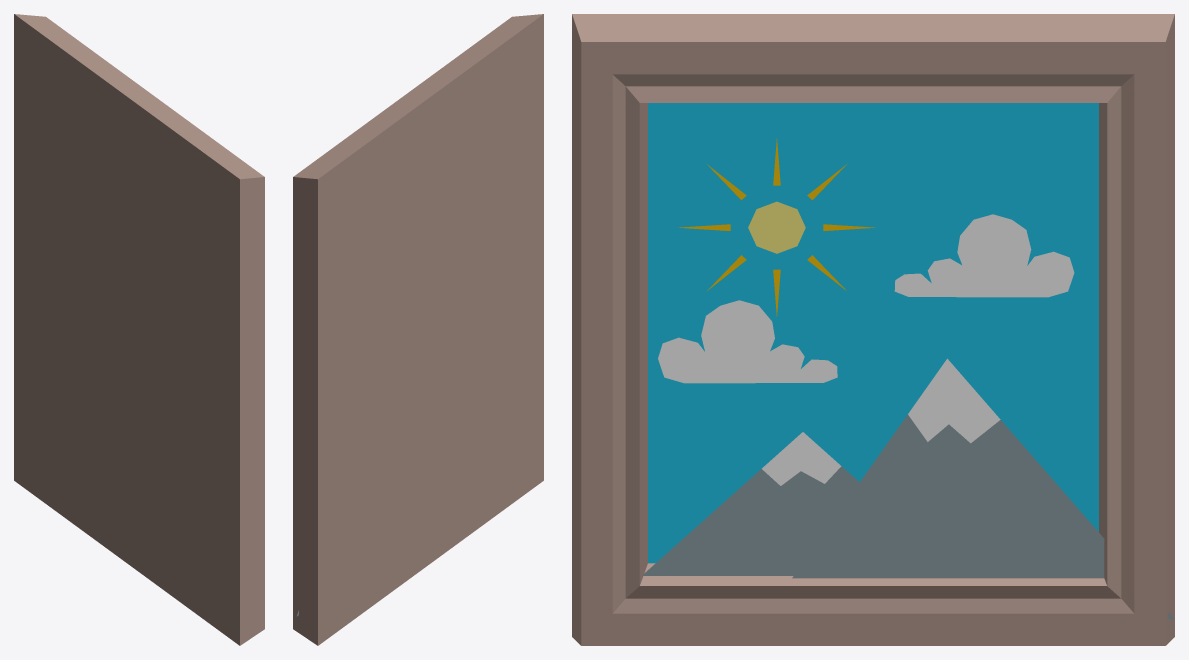
The model's file is wallpainting.glb.
3 views of the same model, side by side, from view 1: azimuth 30°, elevation 25°; view 2: azimuth 150°, elevation 25°; view 3: azimuth 270°, elevation 25° (orthographic). The views are drawn at different scales.
Visible parts, largest first — view 1: node-0; view 2: node-0; view 3: node-0.
Boxes of the visible parts, bbox=[...] form: node-0: bbox=[14, 14, 264, 645]; node-0: bbox=[293, 14, 543, 645]; node-0: bbox=[572, 14, 1174, 645].
Bounding box in the file's own units: 0.6554 × 10.04 × 8.8.
